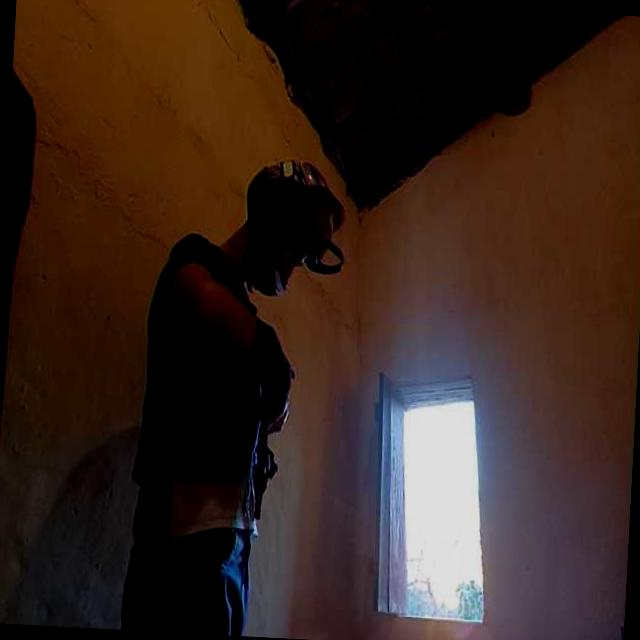capacete: (242, 155, 348, 300)
colete: (144, 244, 282, 498)
pessoa: (134, 159, 344, 640)
